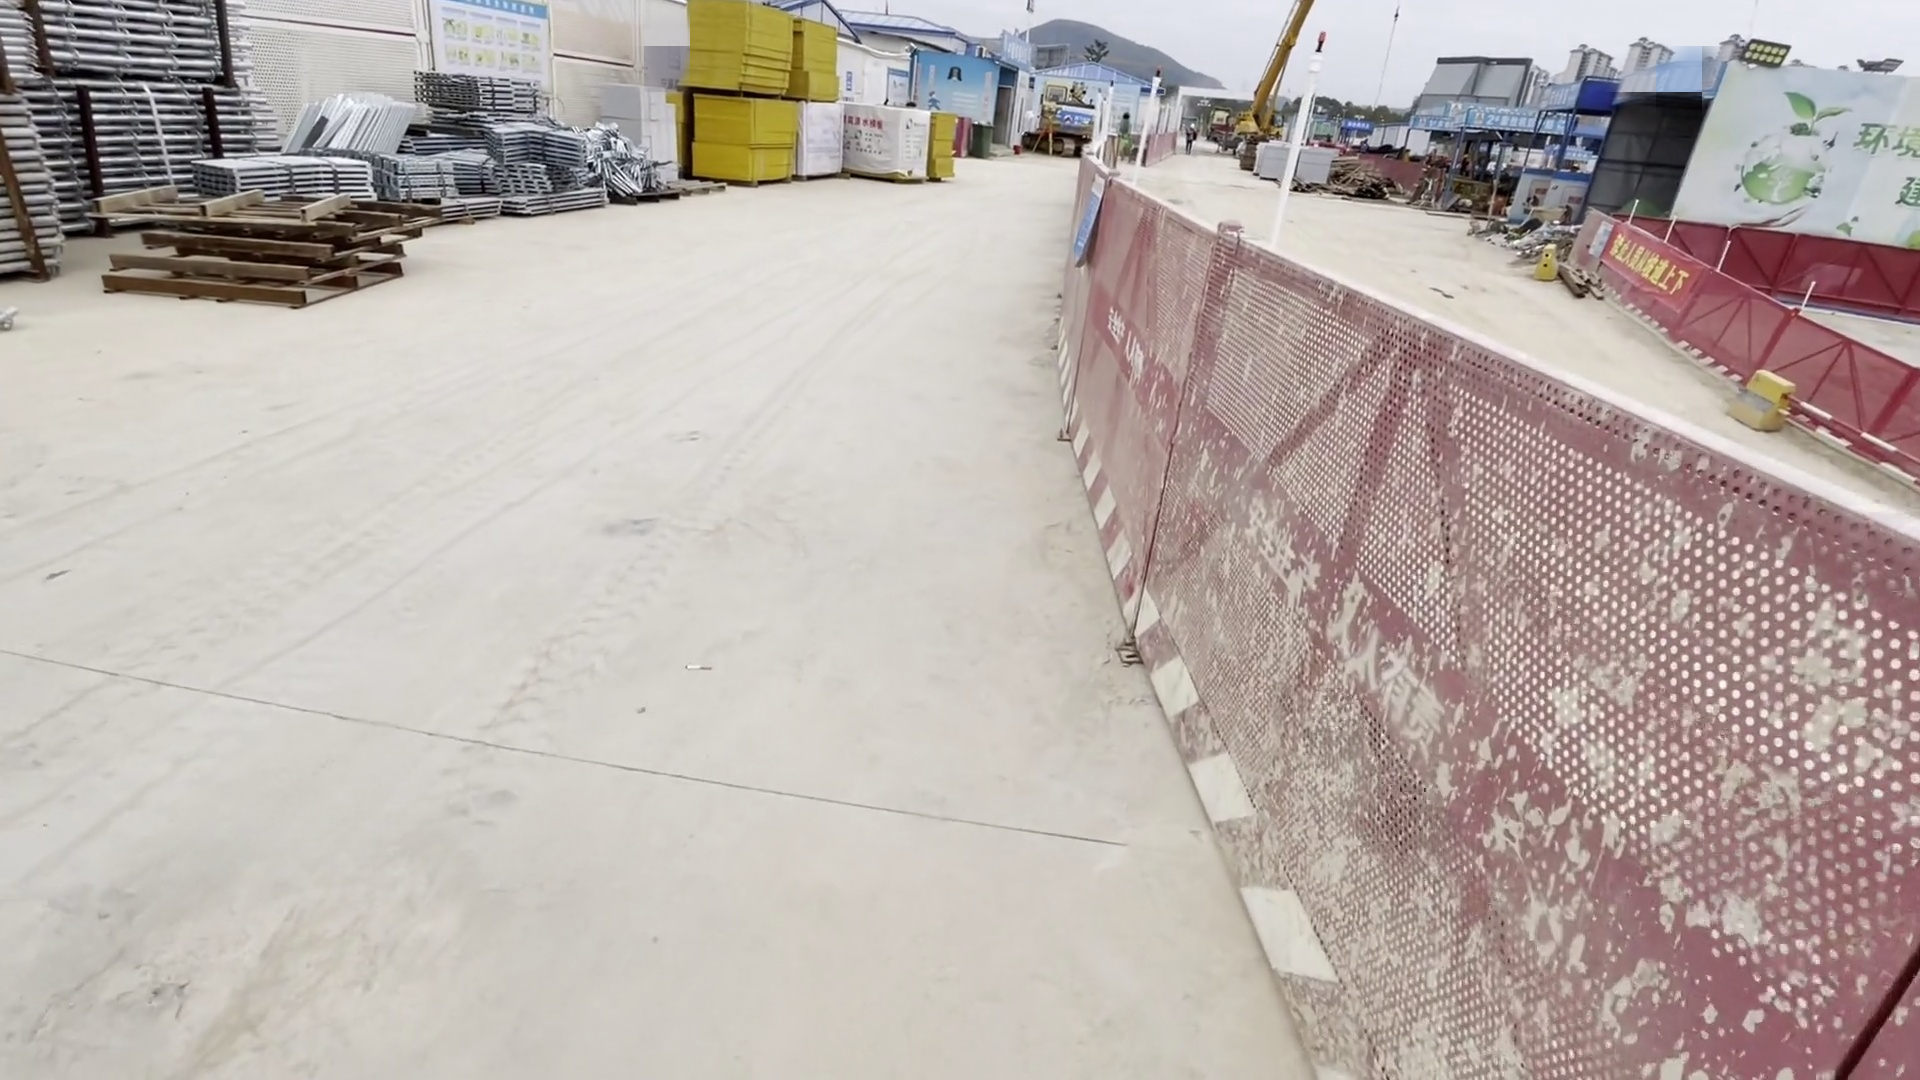board: (675, 3, 812, 185)
fence: (1075, 164, 1920, 1073)
scaffold: (245, 59, 659, 216), (1, 17, 258, 253)
